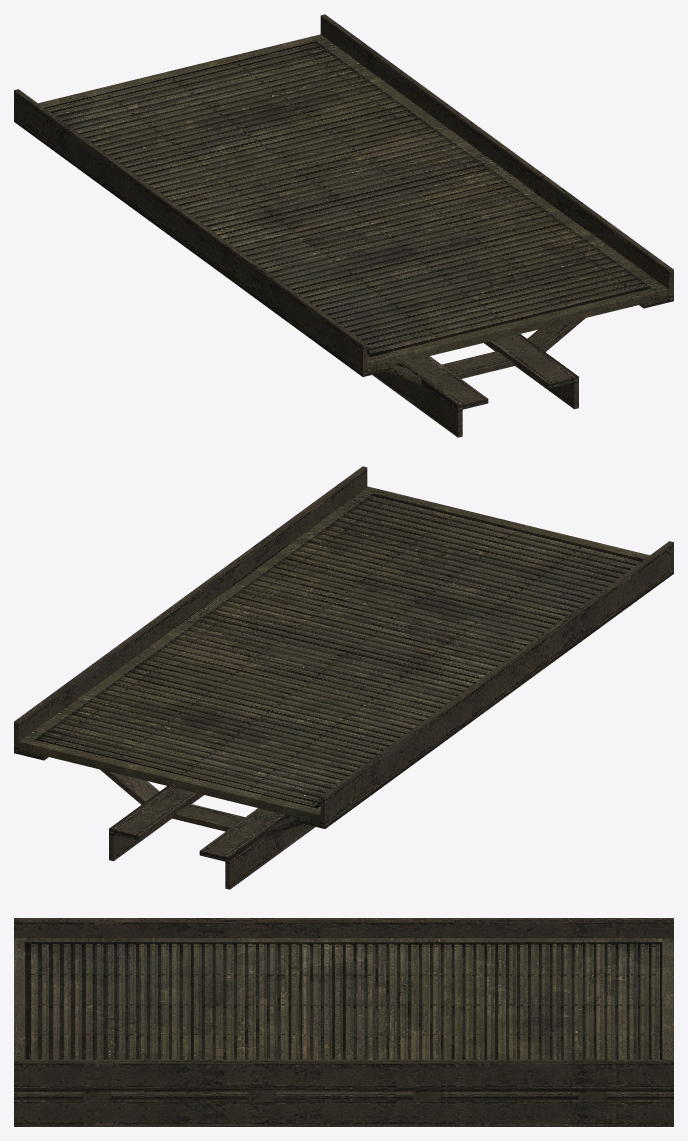
Rendered from platform_bx_1.glb.
3 renders of one model, top to bottom at view 1: azimuth 30°, elevation 25°; view 2: azimuth 150°, elevation 25°; view 3: azimuth 270°, elevation 25°, orthographic. The views are drawn at different scales.
Visible parts, largest first — view 1: platform_bx_1; view 2: platform_bx_1; view 3: platform_bx_1.
Boxes of the visible parts, box(x1,y1,x2,y2) form: platform_bx_1: box(14, 14, 673, 437); platform_bx_1: box(14, 466, 673, 889); platform_bx_1: box(14, 918, 673, 1126).
Bounding box in the file's own units: 2.06 × 0.73 × 4.
2 materials, 2 textured.
